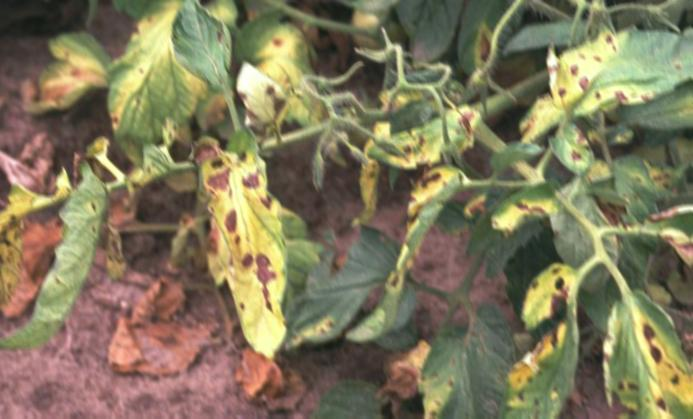Tomato Early blight leaf: (182, 132, 289, 355), (513, 14, 693, 135), (493, 267, 590, 419), (589, 294, 693, 419), (0, 184, 47, 333)
